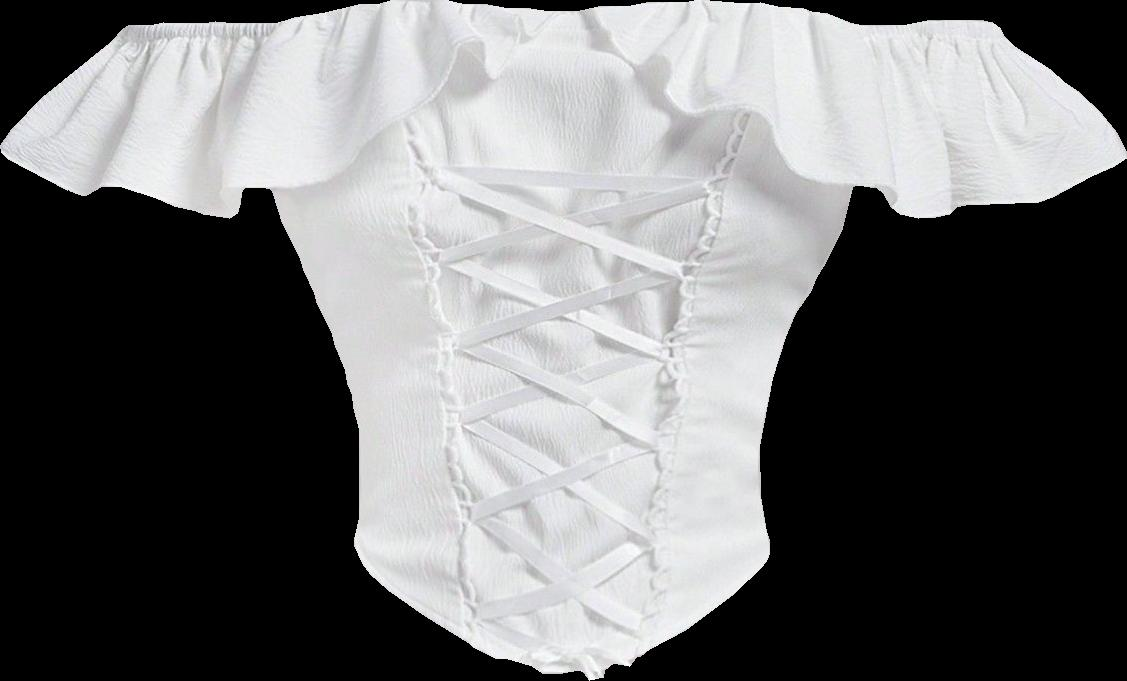Bodice: (1, 0, 1126, 677)
Neckline: (641, 114, 752, 650), (405, 114, 476, 644), (124, 0, 997, 33)
Waistline: (0, 16, 552, 217), (589, 16, 1126, 221), (349, 532, 774, 676)
